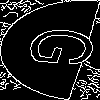G: (25, 25, 100, 72)
